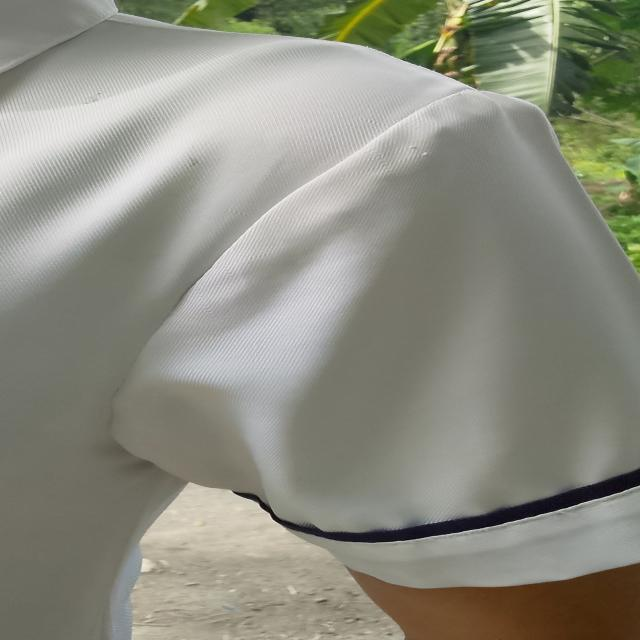education_female_uniform: (11, 0, 640, 604)
